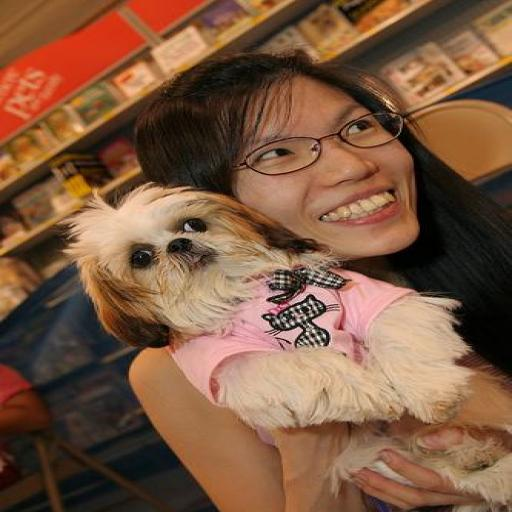dog_face: (52, 194, 295, 320)
